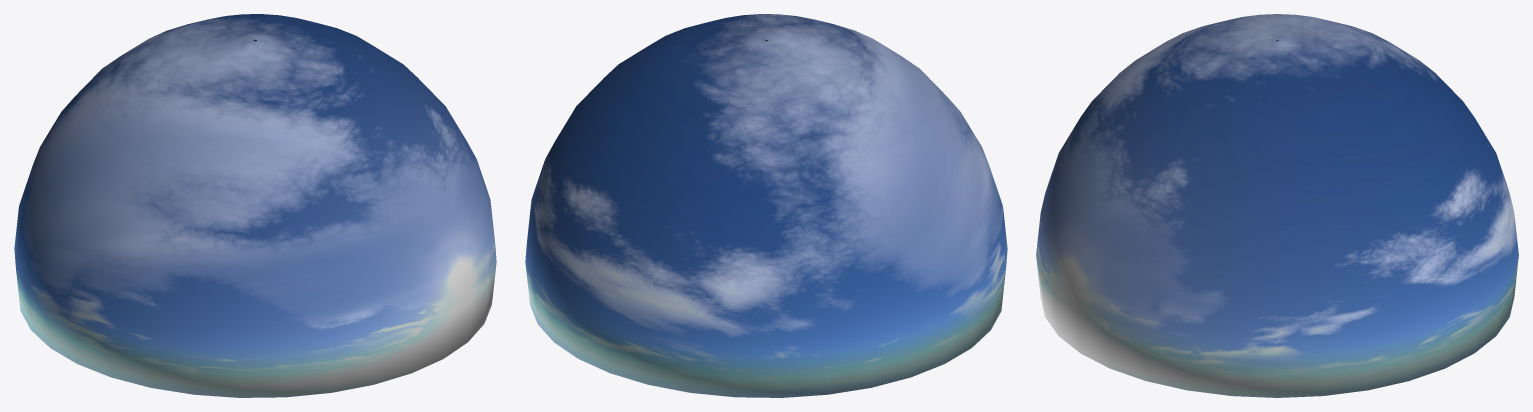
The model's file is skydome.obj.
3 renders of one model, left to right at view 1: azimuth 30°, elevation 25°; view 2: azimuth 150°, elevation 25°; view 3: azimuth 270°, elevation 25°, orthographic.
Parts seen in each view (by area): view 1: Sphere_Sphere_Sky; view 2: Sphere_Sphere_Sky; view 3: Sphere_Sphere_Sky.
Part boxes in pixels (x1,y1,x2,y2): Sphere_Sphere_Sky: (14,14,496,397); Sphere_Sphere_Sky: (525,14,1007,397); Sphere_Sphere_Sky: (1036,14,1518,397).
Bounding box in the file's own units: 784 × 508 × 784.
